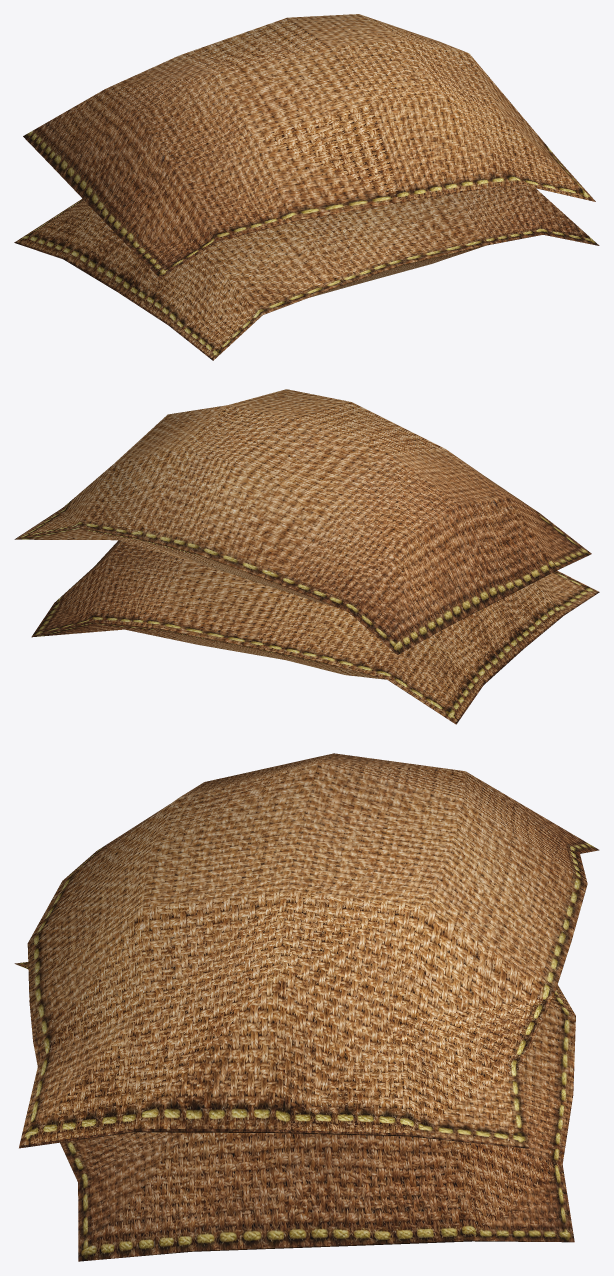
Rendered from mm9_deco_sack03.glb.
The picture shows the model from 3 angles, top to bottom: view 1: azimuth 30°, elevation 25°; view 2: azimuth 150°, elevation 25°; view 3: azimuth 270°, elevation 25°; orthographic projection. The views are drawn at different scales.
Parts seen in each view (by area): view 1: Sack03; view 2: Sack03; view 3: Sack03.
Boxes of the visible parts, <box> form: Sack03: <box>14,14,599,360</box>; Sack03: <box>14,389,599,724</box>; Sack03: <box>14,753,599,1261</box>.
Size of the model in its own units: 1.07 by 0.4687 by 0.8218.
Materials: 1 (1 with a texture image).
